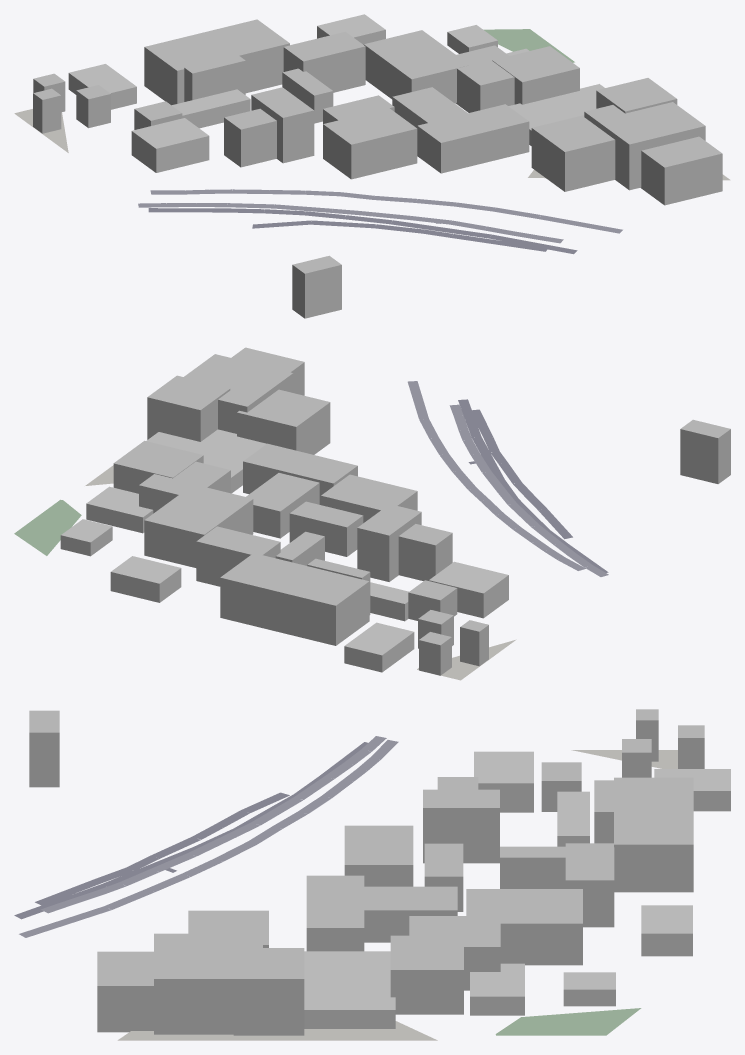
The model's file is 131_89_mid.glb.
3 renders of one model, top to bottom at view 1: azimuth 30°, elevation 25°; view 2: azimuth 150°, elevation 25°; view 3: azimuth 270°, elevation 25°, orthographic. The views are drawn at different scales.
Bounding box in the file's own units: 510 × 50.26 × 536.
